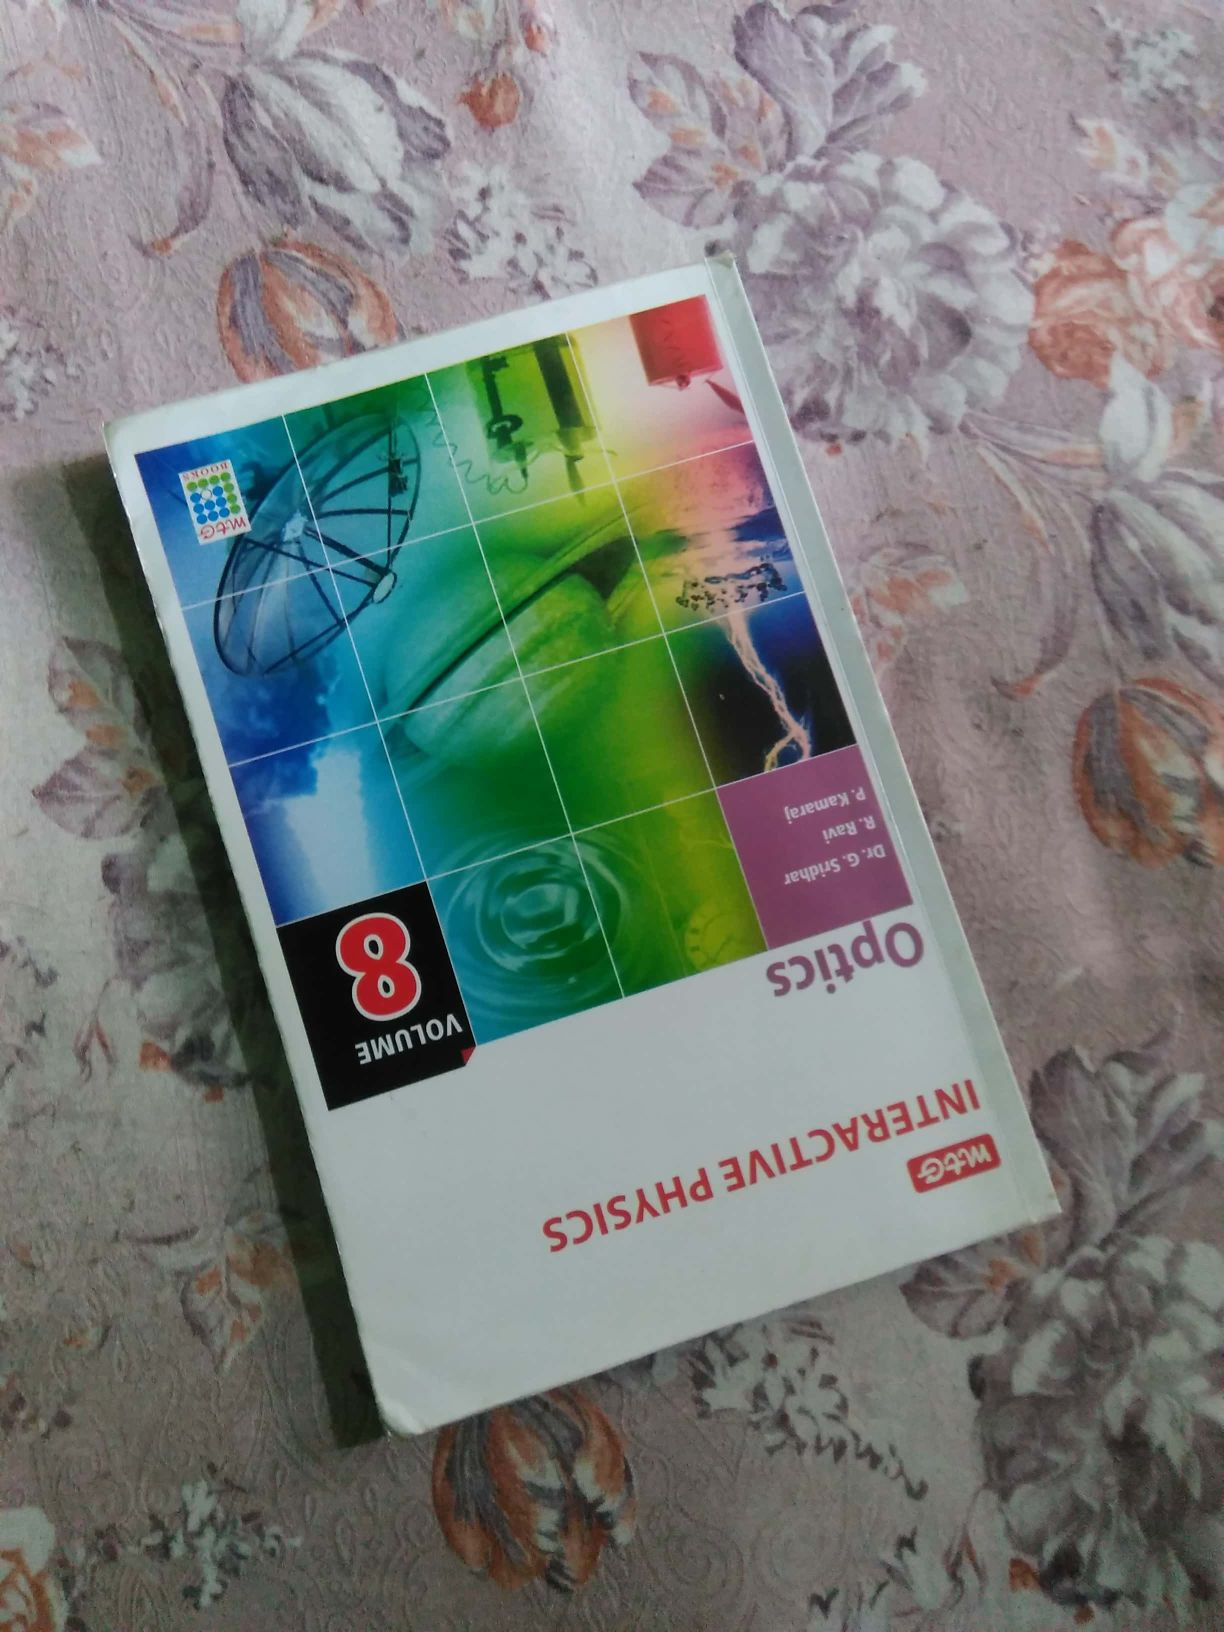optics: (80, 332, 1137, 1342)
